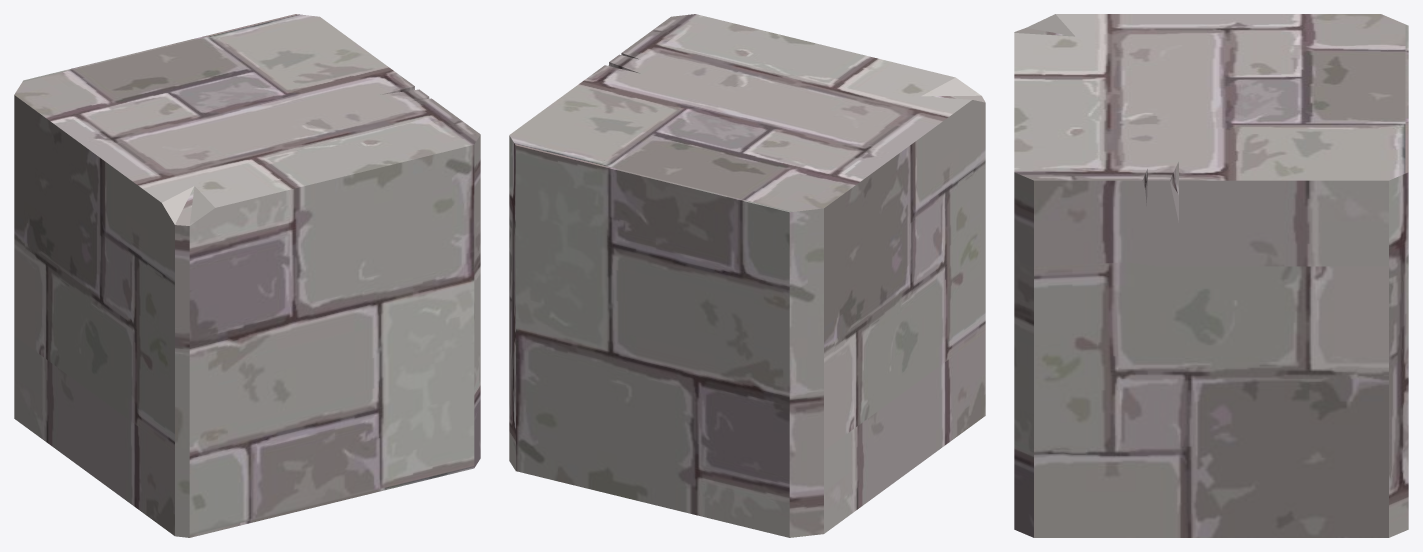
The model's file is StoneBlock.glb.
The picture shows the model from 3 angles, left to right: view 1: azimuth 30°, elevation 25°; view 2: azimuth 150°, elevation 25°; view 3: azimuth 270°, elevation 25°; orthographic projection. The views are drawn at different scales.
Visible parts, largest first — view 1: Stoneblock; view 2: Stoneblock; view 3: Stoneblock.
Boxes of the visible parts, box(x1,y1,x2,y2) form: Stoneblock: box(14, 14, 480, 537); Stoneblock: box(509, 14, 985, 537); Stoneblock: box(1014, 14, 1408, 537).
Bounding box in the file's own units: 2 × 2 × 2.
1 material, 1 textured.
